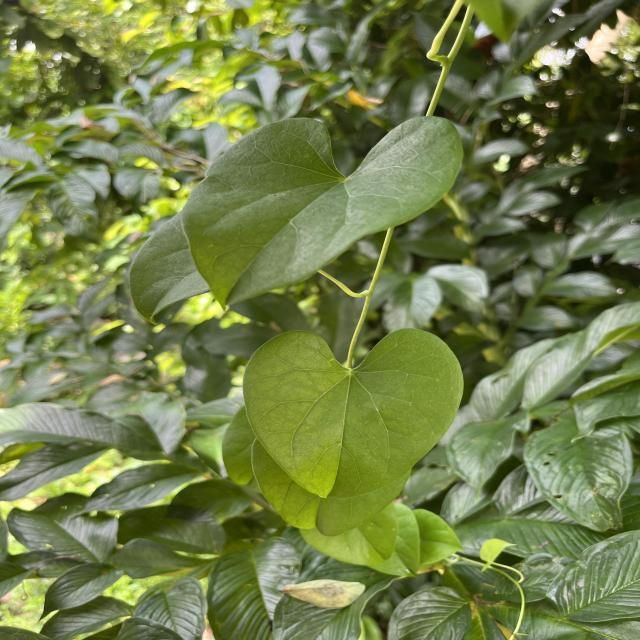Tinospora cordifolia: (176, 112, 468, 317), (239, 324, 468, 501)
